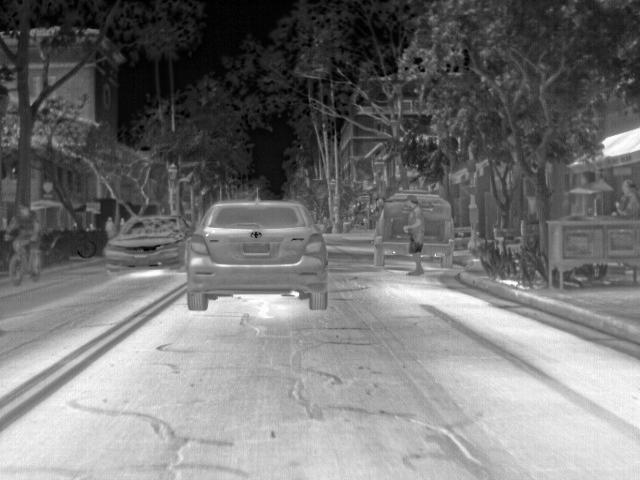car: (185, 196, 328, 310), (101, 213, 189, 272), (374, 190, 402, 269), (427, 192, 454, 269)
person: (5, 204, 44, 276), (402, 195, 425, 277), (612, 179, 638, 217), (104, 216, 113, 230)
